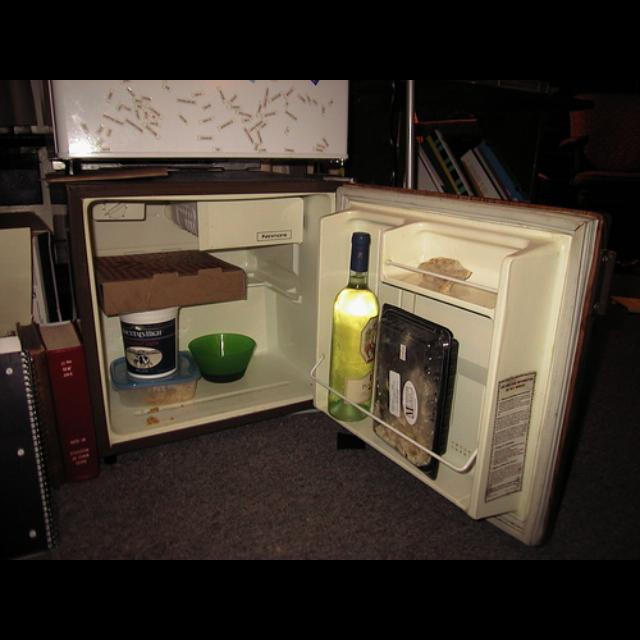Refrigerator: (58, 166, 600, 550)
